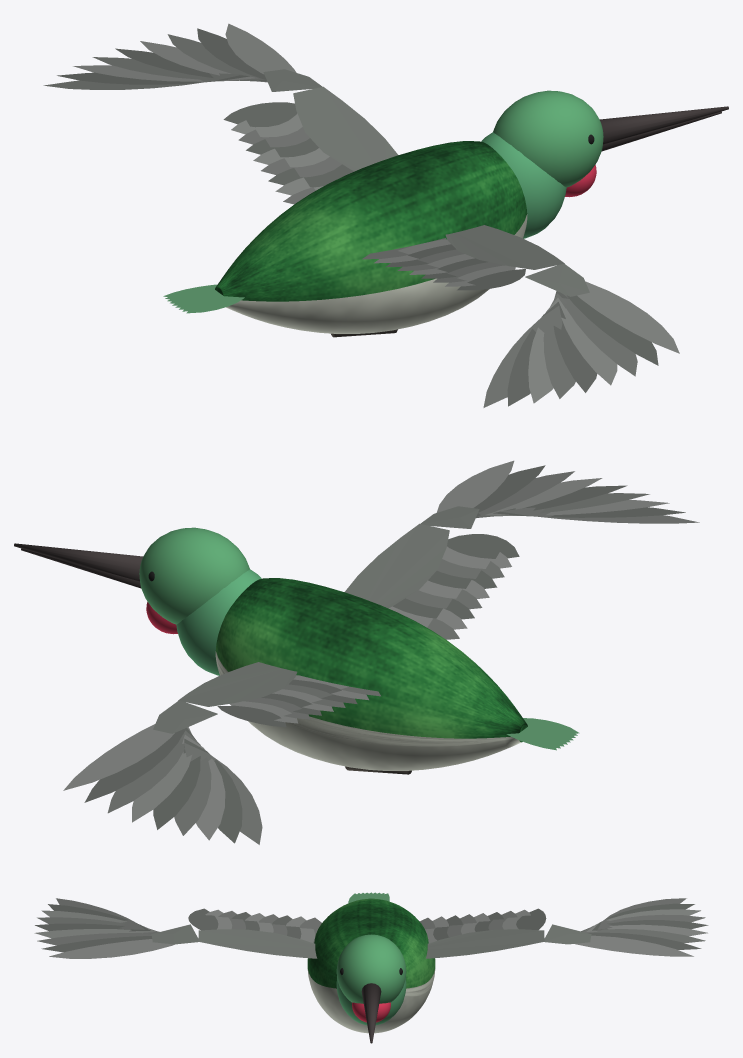
Rendered from hummingbird.glb.
3 renders of one model, top to bottom at view 1: azimuth 30°, elevation 25°; view 2: azimuth 150°, elevation 25°; view 3: azimuth 270°, elevation 25°, orthographic. The views are drawn at different scales.
Parts seen in each view (by area): view 1: Body, Head, Arm coverts.001, Neck, Arm coverts, Primary, Beak upper, Primary.009, Primary.008, Primary.001, Primary.002, Primary.003 (+22 smaller); view 2: Body, Head, Arm coverts, Neck, Arm coverts.001, Primary.009, Beak upper, Primary, Primary.010, Primary.011, Primary.017, Primary.014 (+22 smaller); view 3: Body, Head, Arm coverts, Arm coverts.001, Primary, Primary.009, Beak upper, Hand coverts.001, Hand coverts, Neck, Primary.010, Primary.001 (+21 smaller).
Boxes of the visible parts, x1,y1,x2,y2 form: Body: [215, 141, 527, 333]; Head: [493, 90, 603, 187]; Arm coverts.001: [293, 86, 398, 171]; Neck: [481, 132, 566, 238]; Arm coverts: [445, 225, 564, 269]; Primary: [577, 281, 679, 353]; Beak upper: [599, 106, 728, 144]; Primary.009: [225, 23, 296, 74]; Primary.008: [483, 306, 562, 407]; Primary.001: [567, 295, 658, 365]; Primary.002: [562, 294, 637, 376]; Primary.003: [561, 308, 617, 385]; Body: [215, 578, 527, 770]; Head: [139, 527, 249, 624]; Arm coverts: [344, 523, 449, 608]; Neck: [176, 569, 261, 675]; Arm coverts.001: [178, 662, 297, 706]; Primary.009: [63, 724, 174, 790]; Beak upper: [14, 543, 143, 581]; Primary: [436, 460, 514, 512]; Primary.010: [84, 729, 184, 802]; Primary.011: [107, 735, 184, 813]; Primary.017: [184, 743, 262, 844]; Primary.014: [174, 730, 211, 835]; Body: [307, 898, 435, 1033]; Head: [336, 934, 406, 1003]; Arm coverts: [198, 929, 317, 958]; Arm coverts.001: [425, 929, 544, 958]; Primary: [49, 939, 174, 958]; Primary.009: [575, 935, 693, 956]; Beak upper: [361, 983, 381, 1043]; Hand coverts.001: [544, 924, 591, 944]; Hand coverts: [151, 924, 198, 944]; Neck: [336, 978, 406, 1025]; Primary.010: [588, 932, 701, 949]; Primary.001: [41, 936, 152, 952].
Bounding box in the file's own units: 3.36 × 1.05 × 5.11.
14 materials, 2 textured.
